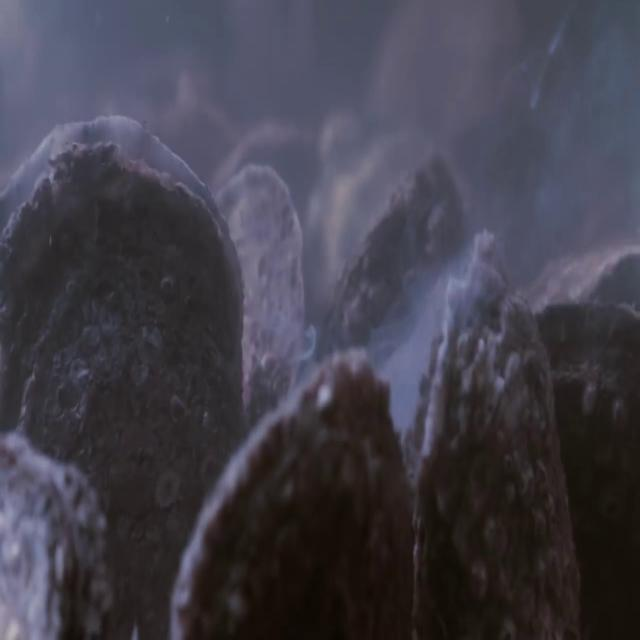Oyster-Closed: (2, 110, 246, 639), (413, 225, 586, 635)
Oyster-Indeterminate: (168, 340, 414, 633), (528, 295, 635, 631), (315, 147, 471, 347), (0, 434, 120, 639), (218, 162, 307, 409), (521, 237, 638, 304)
